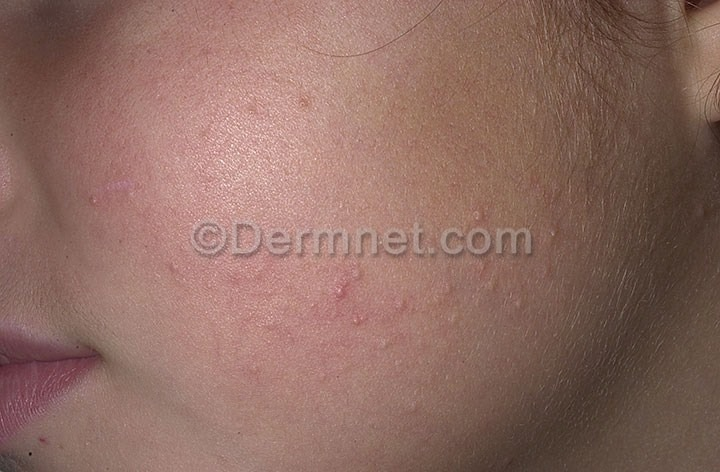Eczema: (82, 33, 584, 423)
